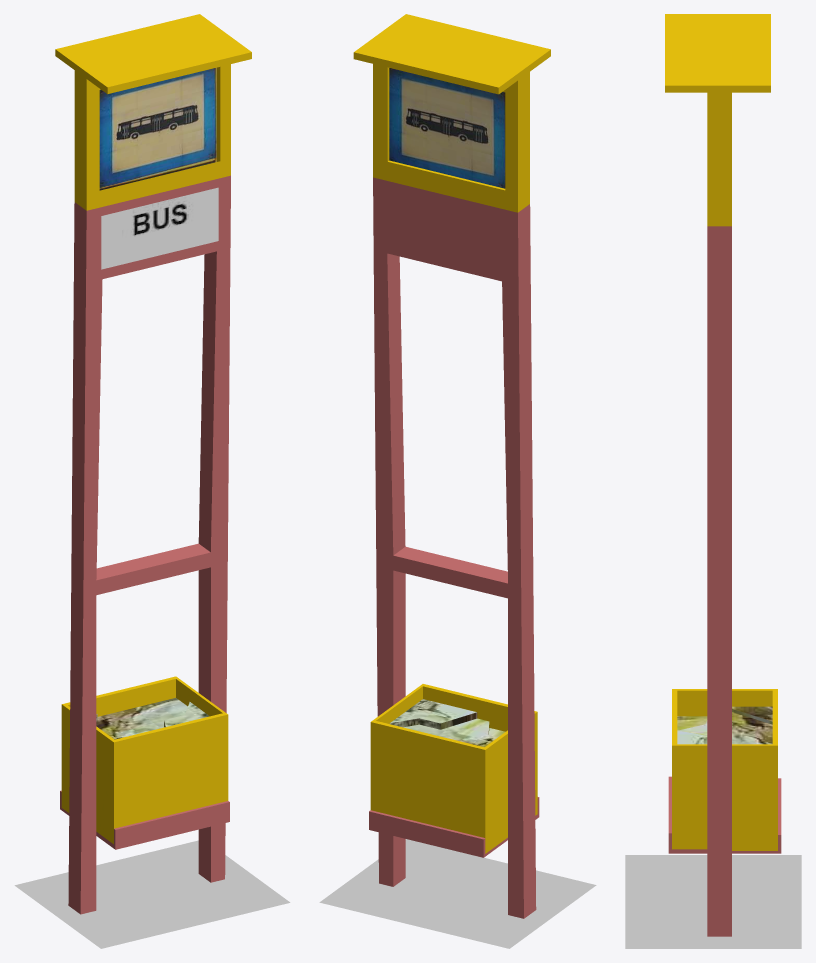
The model's file is zastavka_znacka.glb.
3 renders of one model, left to right at view 1: azimuth 30°, elevation 25°; view 2: azimuth 150°, elevation 25°; view 3: azimuth 270°, elevation 25°, orthographic.
Bounding box in the file's own units: 0.6301 × 2.67 × 0.5.
7 materials, 3 textured.
